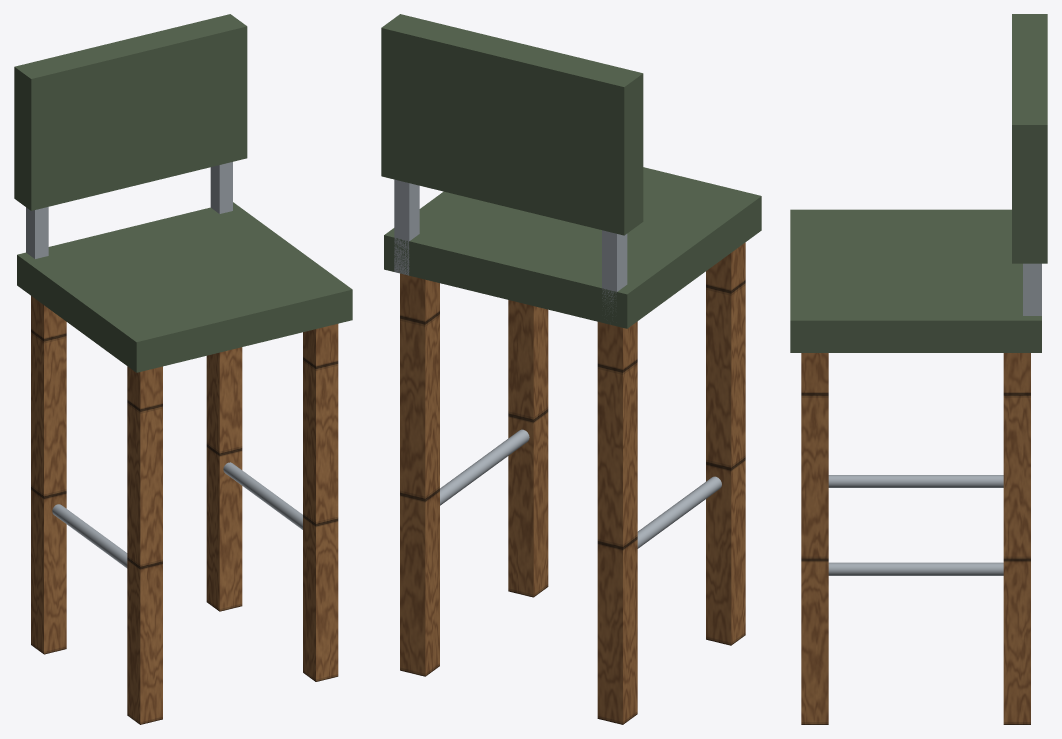
Rendered from Barszek.obj.
The picture shows the model from 3 angles, left to right: view 1: azimuth 30°, elevation 25°; view 2: azimuth 150°, elevation 25°; view 3: azimuth 270°, elevation 25°; orthographic projection. The views are drawn at different scales.
Size of the model in its own units: 0.48 by 1.22 by 0.47.
3 materials, 1 textured.
